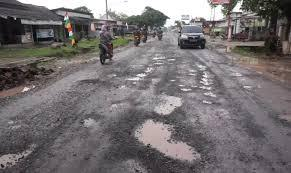Pothole: (130, 115, 210, 166), (116, 53, 178, 83), (0, 139, 58, 168), (230, 71, 277, 100), (192, 60, 223, 99), (144, 88, 182, 117), (75, 107, 105, 138), (106, 97, 136, 114), (166, 78, 193, 94), (273, 105, 291, 126), (97, 67, 116, 82), (198, 96, 215, 110)
